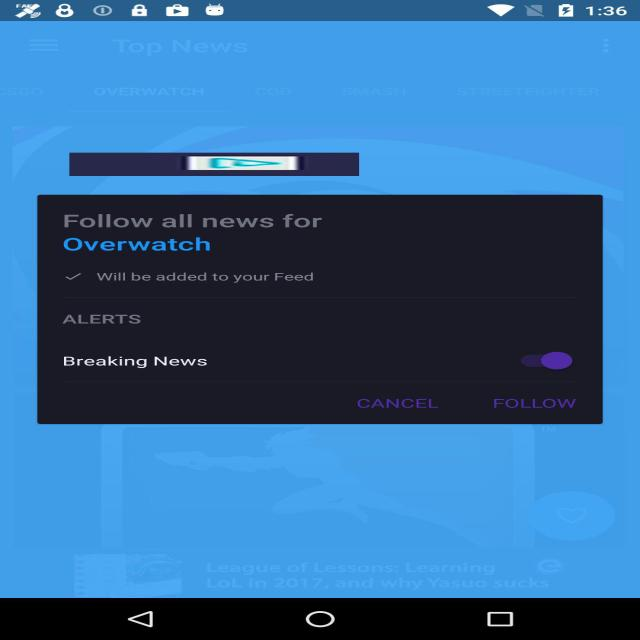sneaking: (69, 153, 359, 176)
